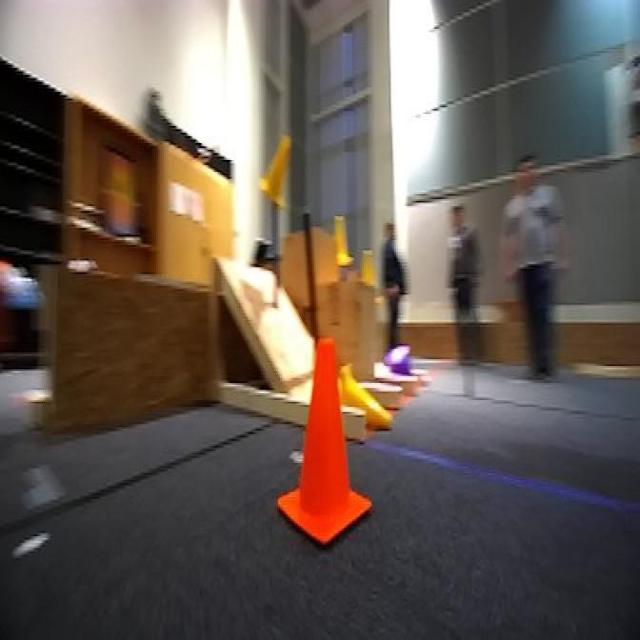frc_cone: (256, 128, 298, 215), (339, 369, 391, 431), (358, 244, 384, 296), (328, 213, 350, 272)
frc_cube: (382, 344, 415, 374)
